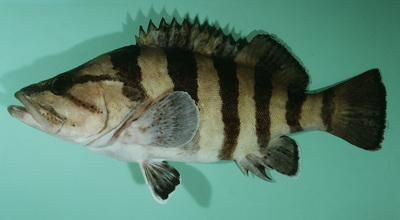fish: (7, 17, 388, 203)
